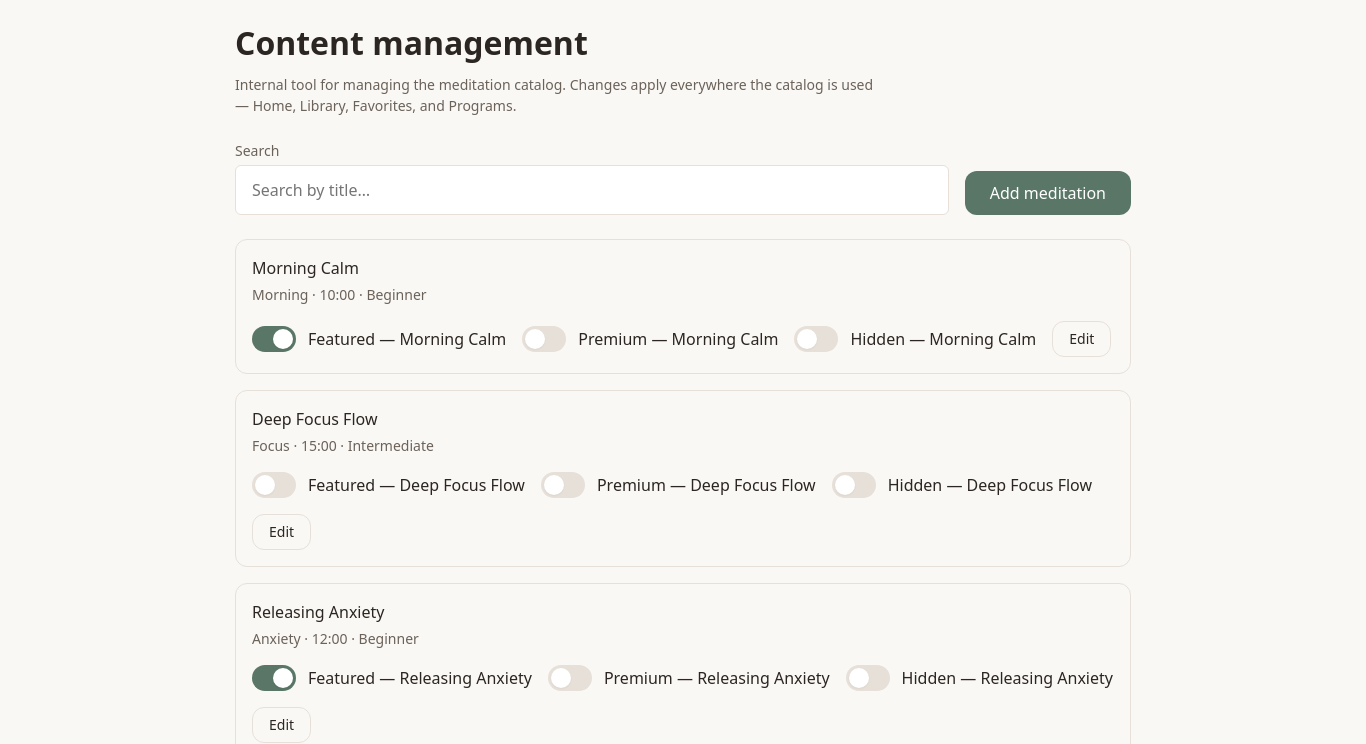
Test case: AdminPage › adds a new custom meditation through the modal
Click the button "Add meditation" at (1048, 193), box [965, 171, 1131, 215]
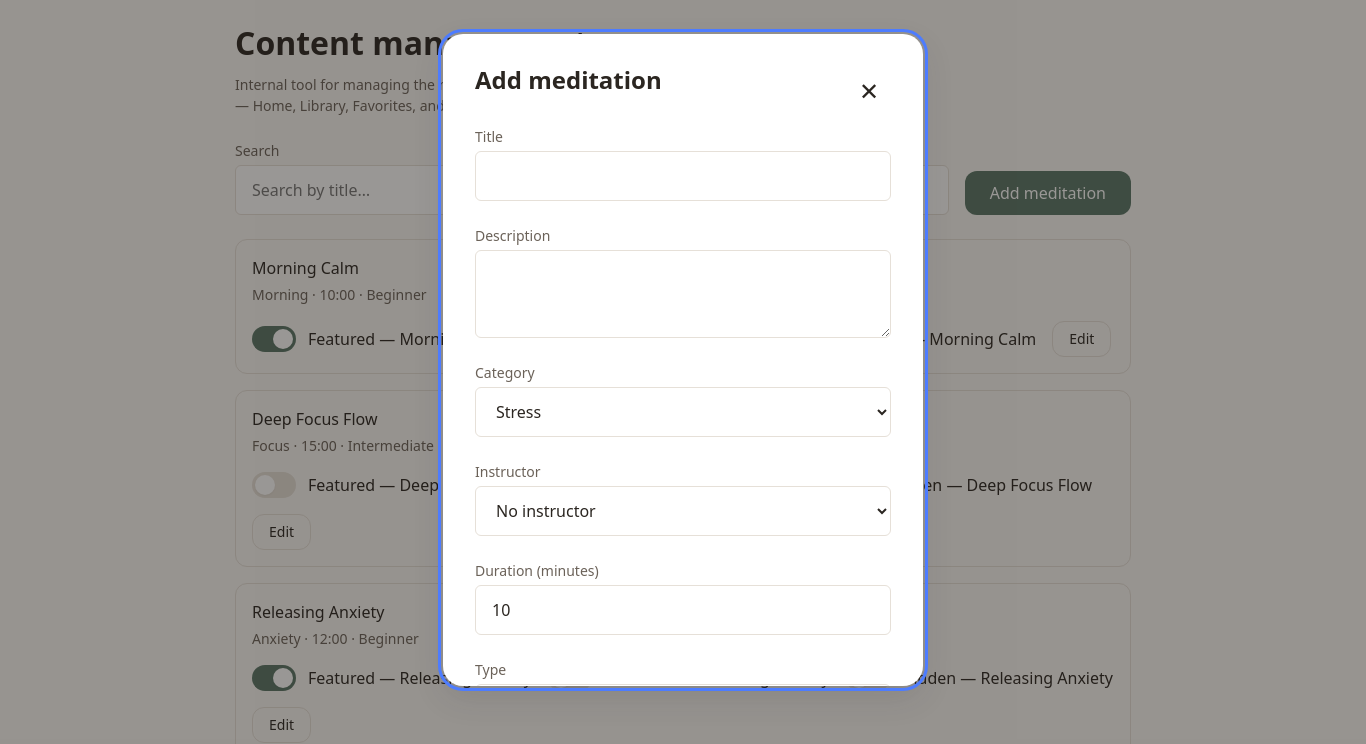
Type "Lunch Reset" into the field labelled "Title" at (683, 176), box [475, 151, 891, 201]
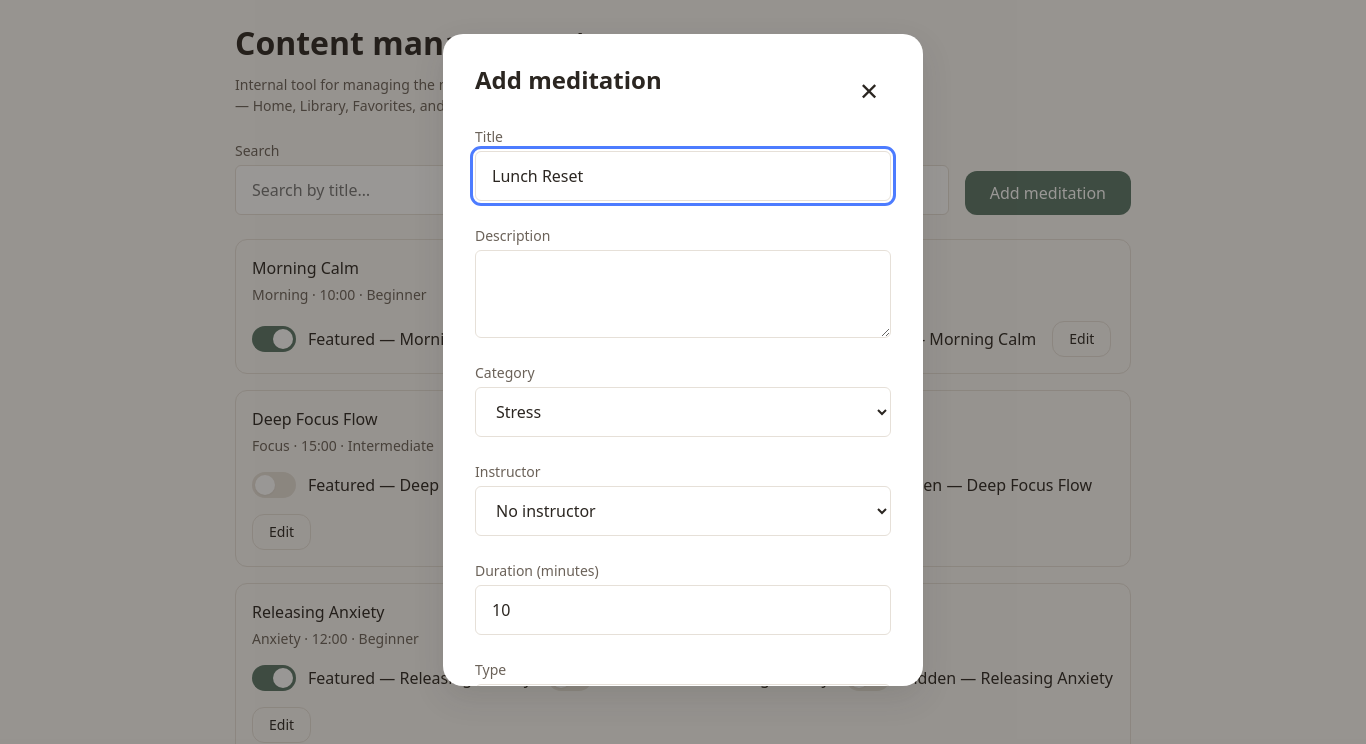
Type "A short reset for the middle of the day." into the text box labelled "Description" at (683, 294), box [475, 250, 891, 338]
(page scrolled)
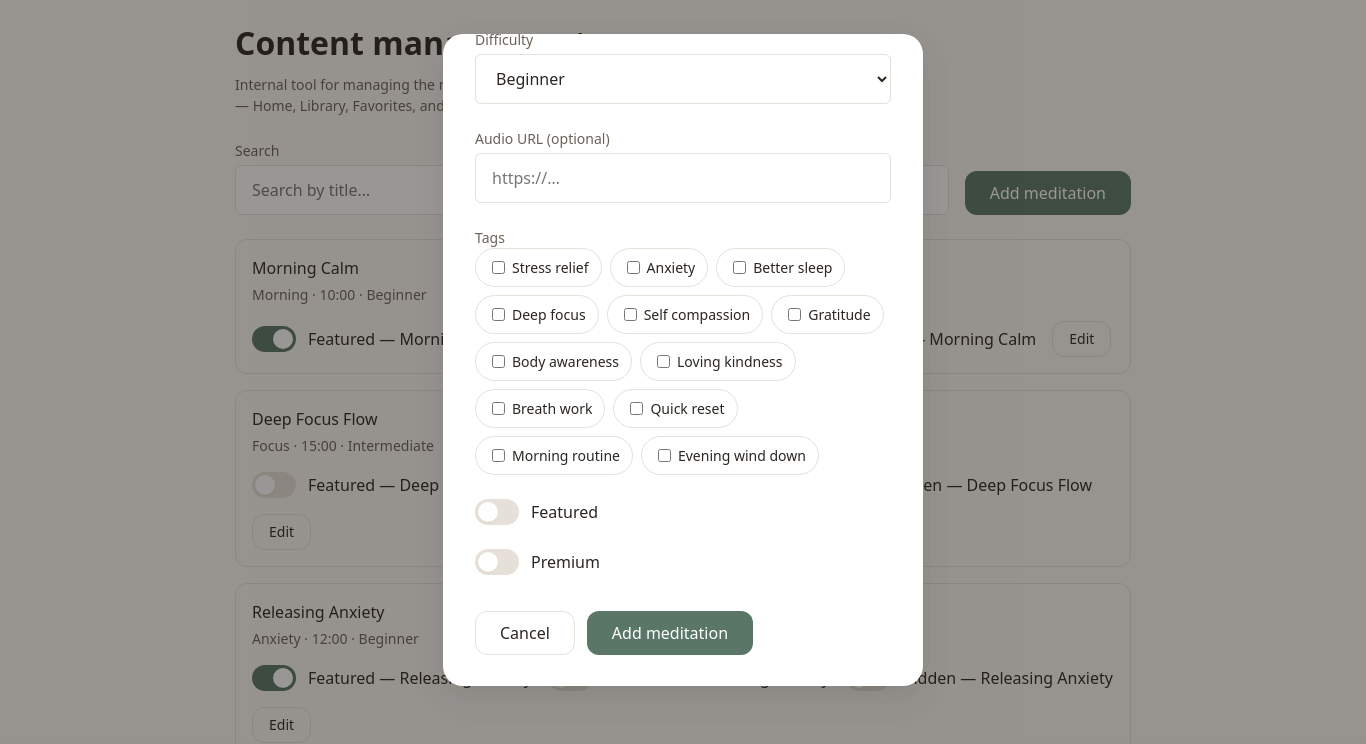
Click the button "Add meditation" at (670, 633), box [587, 611, 753, 655]
(page scrolled)
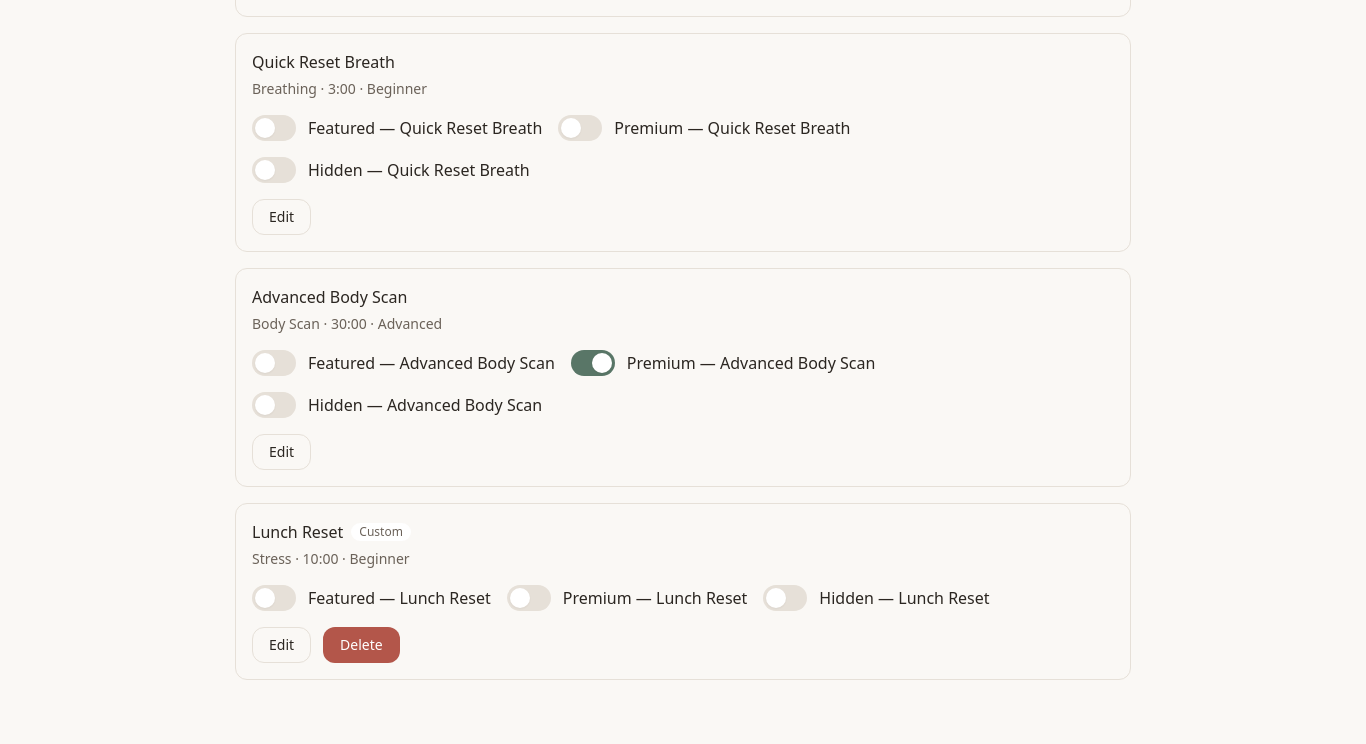
expect the text "Lunch Reset" is shown: met, box [252, 521, 343, 543]
